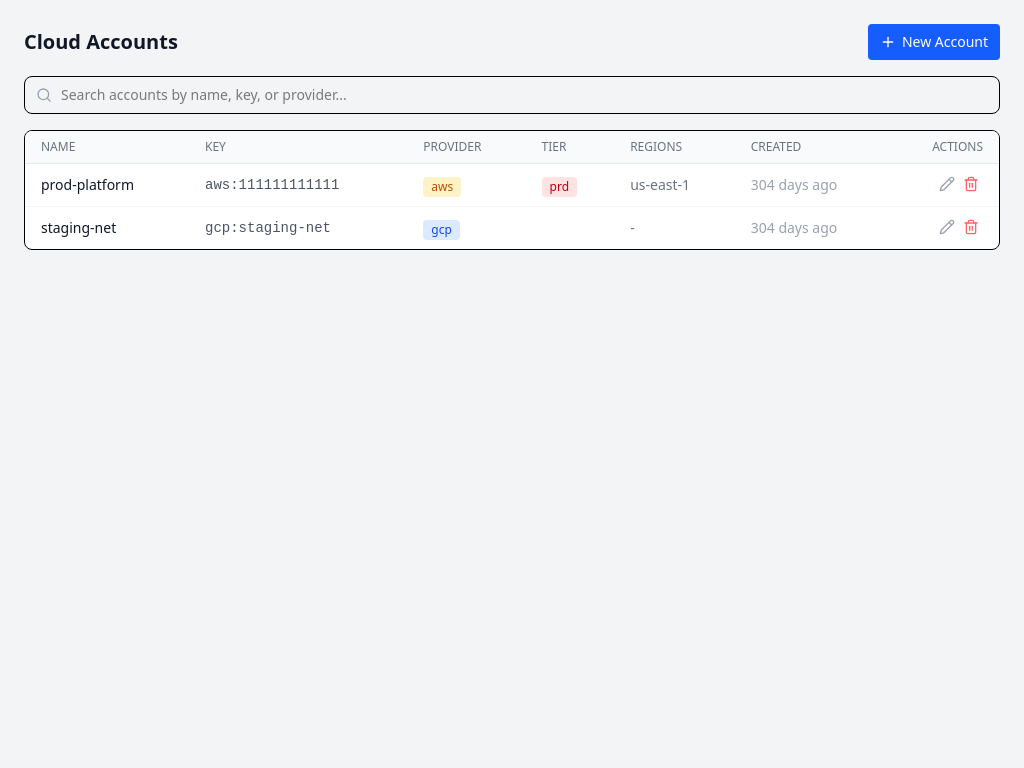
AccountsPage edit › opens the account pre-filled with the key read-only
Click the button named "Edit" in the row of "prod-platform" at (947, 184), box [935,172,959,196]
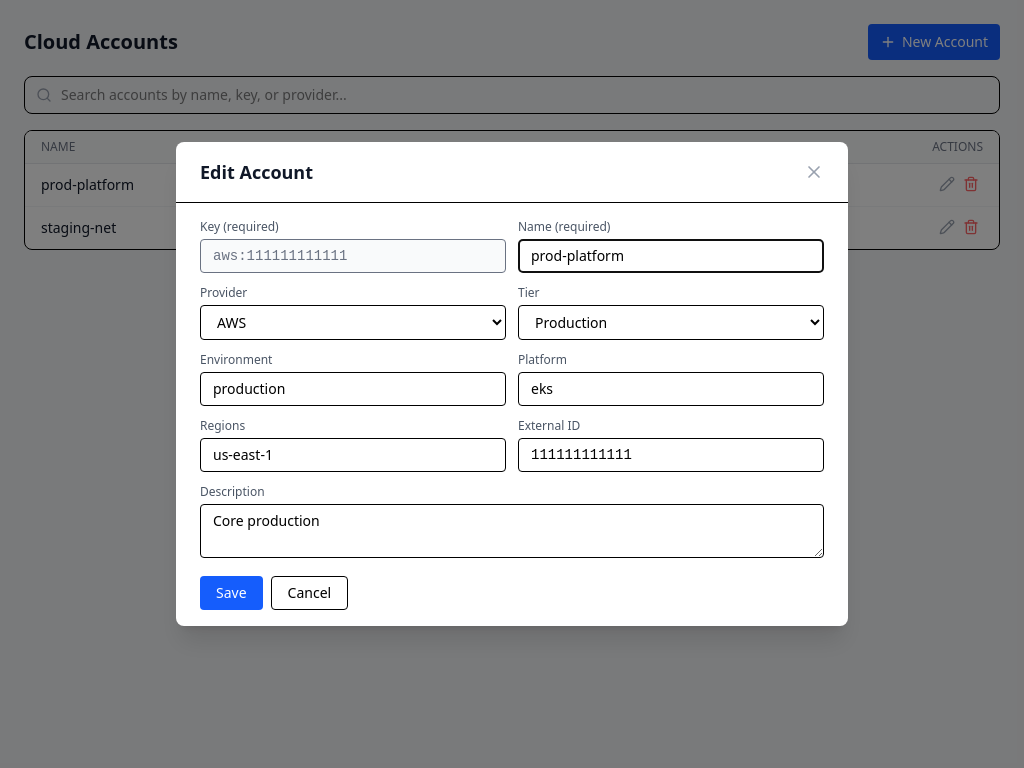
Expected: the field labelled "Key (required)" holds "aws:111111111111", [200,239,506,273]
Expected: the field labelled "Name (required)" holds "prod-platform", [518,239,824,273]
Expected: the dropdown labelled "Provider" shows "AWS", [200,305,506,340]
